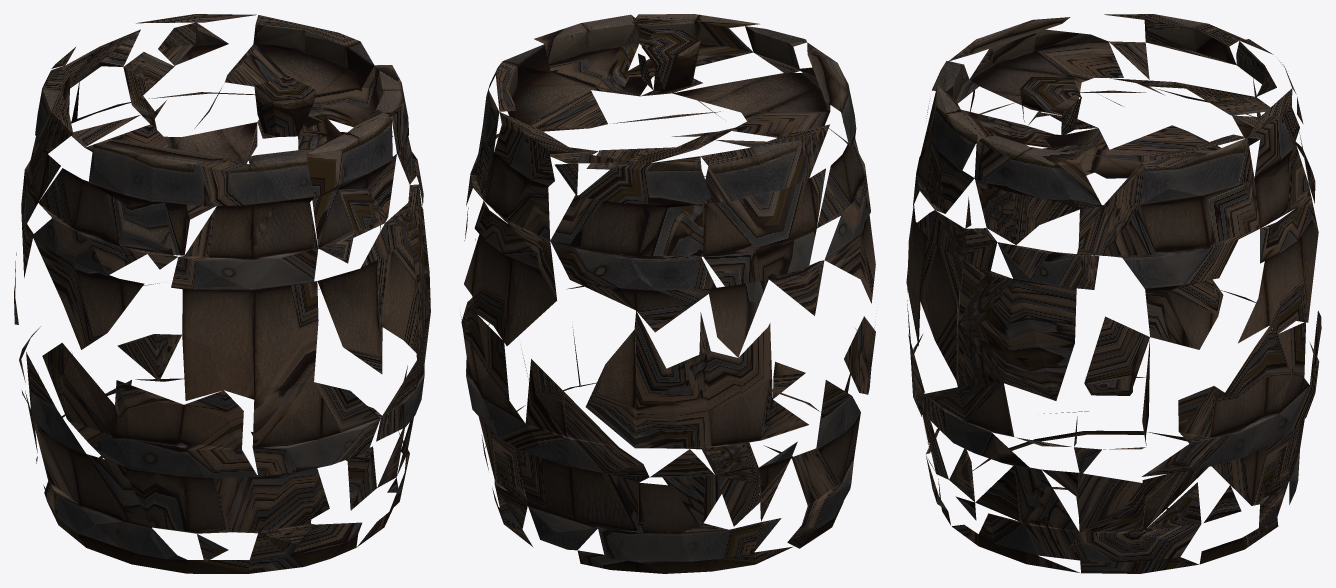
The model's file is prp_barrel_oil_a_LOD1.glb.
The picture shows the model from 3 angles, left to right: view 1: azimuth 30°, elevation 25°; view 2: azimuth 150°, elevation 25°; view 3: azimuth 270°, elevation 25°; orthographic projection.
Visible parts, largest first — view 1: geometry_0; view 2: geometry_0; view 3: geometry_0.
Boxes of the visible parts, x1=… form: geometry_0: x1=14, y1=14, x2=430, y2=573; geometry_0: x1=460, y1=14, x2=875, y2=573; geometry_0: x1=906, y1=14, x2=1321, y2=573.
Size of the model in its own units: 0.8816 by 1 by 0.8741.
Materials: 1 (1 with a texture image).
